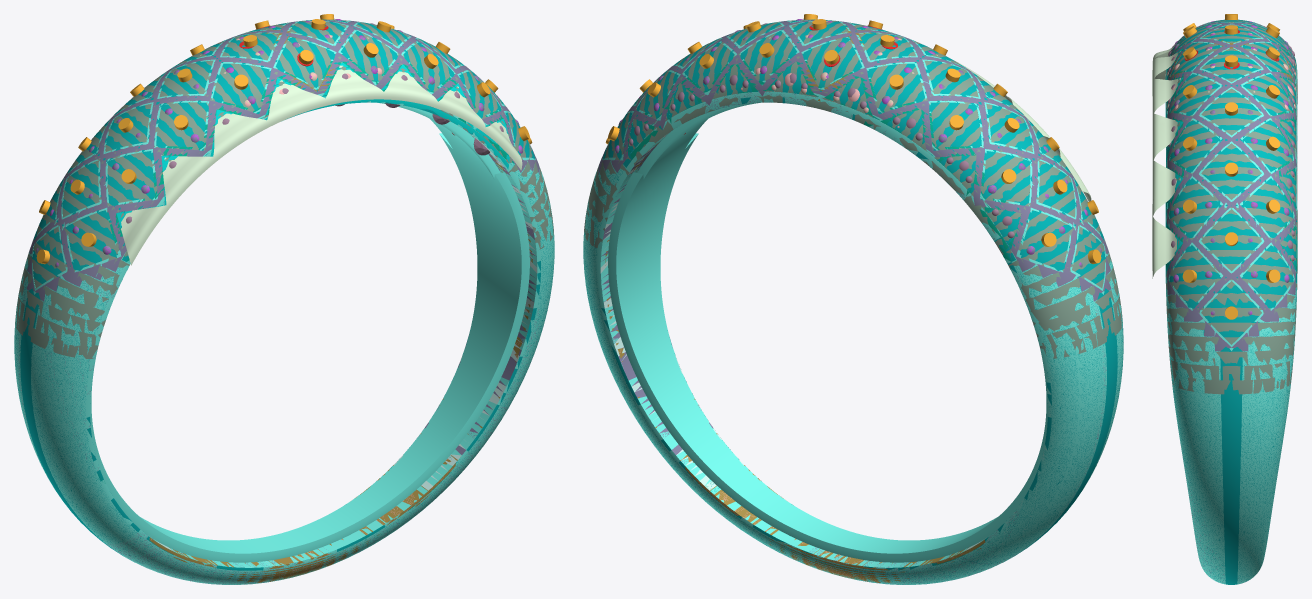
The picture shows the model from 3 angles, left to right: view 1: azimuth 30°, elevation 25°; view 2: azimuth 150°, elevation 25°; view 3: azimuth 270°, elevation 25°; orthographic projection. The views are drawn at different scales.
Parts seen in each view (by area): view 1: Anel Aparador 1 mm novo.3dm; view 2: Anel Aparador 1 mm novo.3dm; view 3: Anel Aparador 1 mm novo.3dm.
Part boxes in pixels (x1,y1,x2,y2): Anel Aparador 1 mm novo.3dm: (14, 19, 554, 584); Anel Aparador 1 mm novo.3dm: (583, 19, 1123, 584); Anel Aparador 1 mm novo.3dm: (1152, 19, 1297, 584).
Size of the model in its own units: 2.83 by 2.85 by 0.7272.
